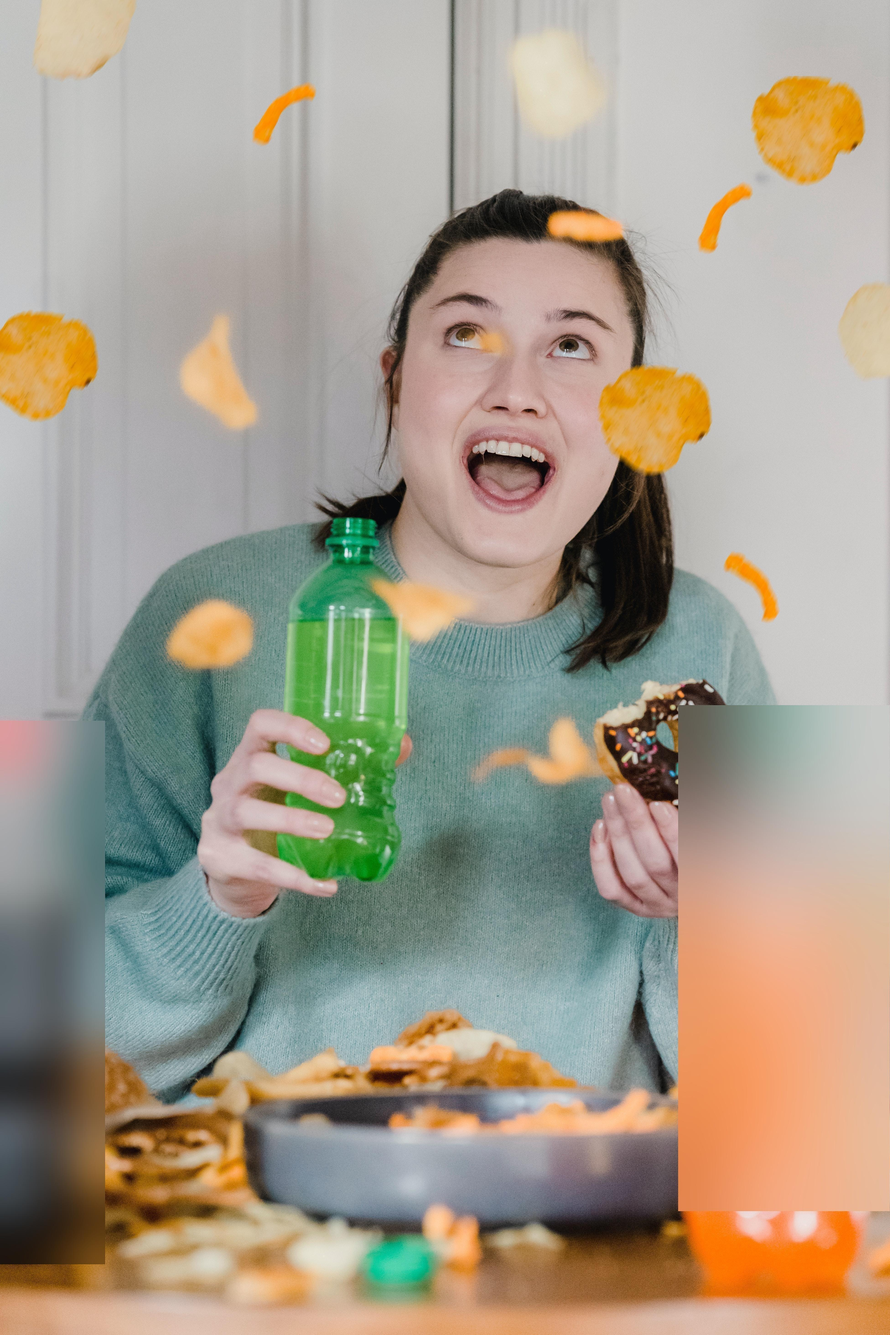bottle-plastic: (269, 511, 411, 893)
